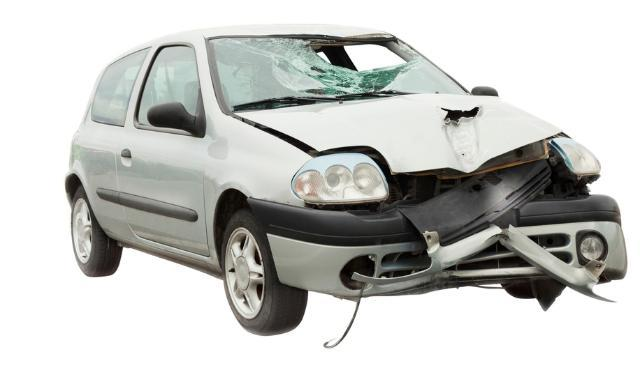Bonnet: (228, 90, 573, 179)
Bumper: (257, 195, 634, 299)
Light: (553, 134, 602, 179)
Windshield: (207, 32, 468, 97)
